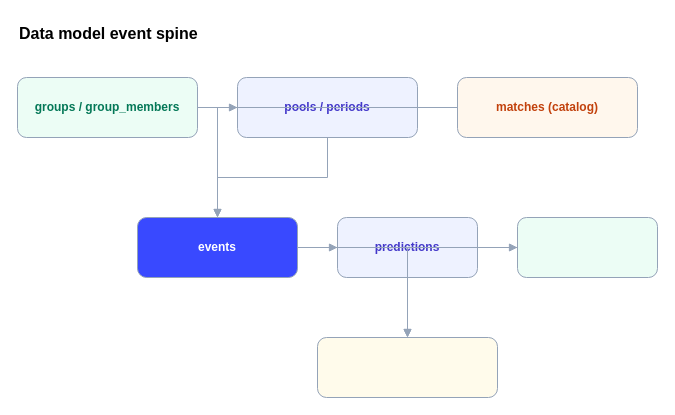
Image size: 675x415. Some labels were removed from this diagram. Each missing label, with the centre of its shape:
event_scores: pixel 587 247
payouts: pixel 407 367
